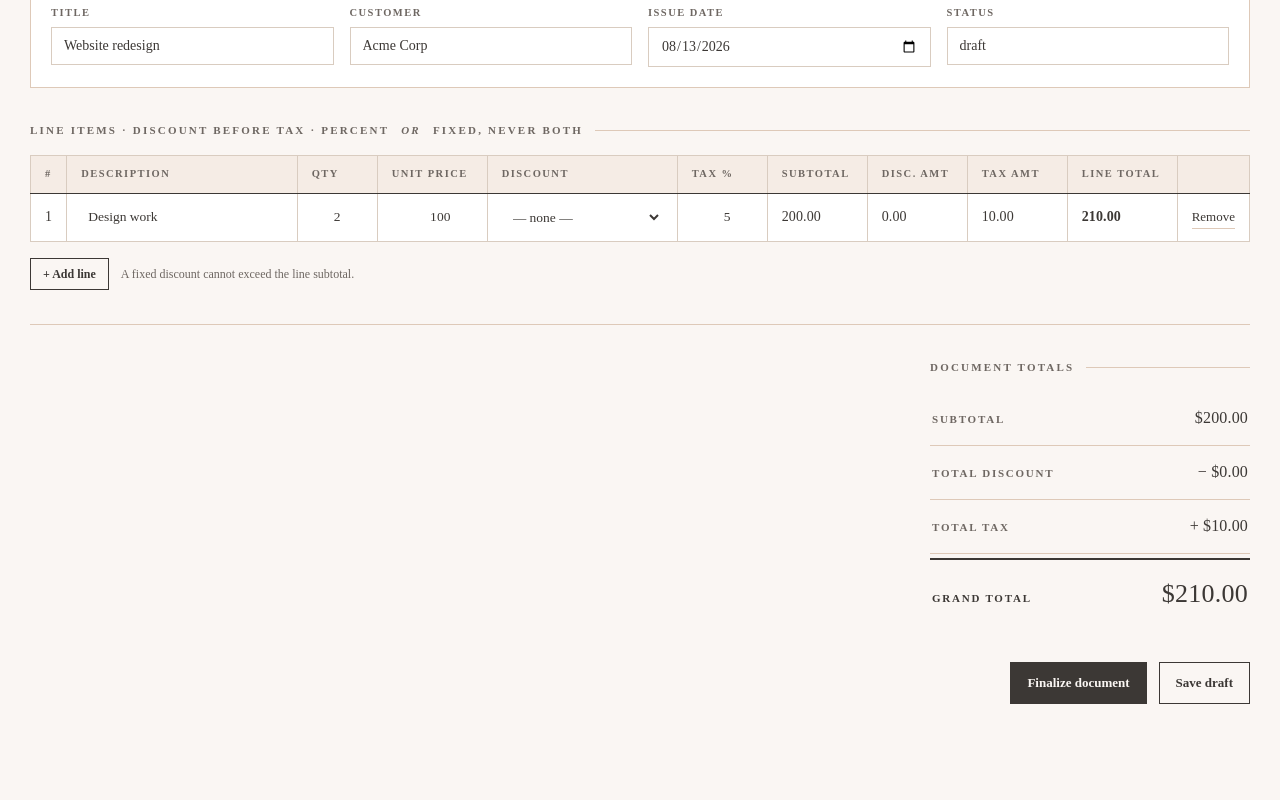
Scenario: DocumentEditor › surfaces a DOCUMENT_FINALIZED save error and notifies the parent to switch to read-only
The width and height of the screenshot is (1280, 800).
(page scrolled)
Expected: the field showing "Website redesign" is shown, [51,27,334,65]
Click the button "Save draft" at (1204, 683), box [1159,662,1250,704]
Wait 1500 ms
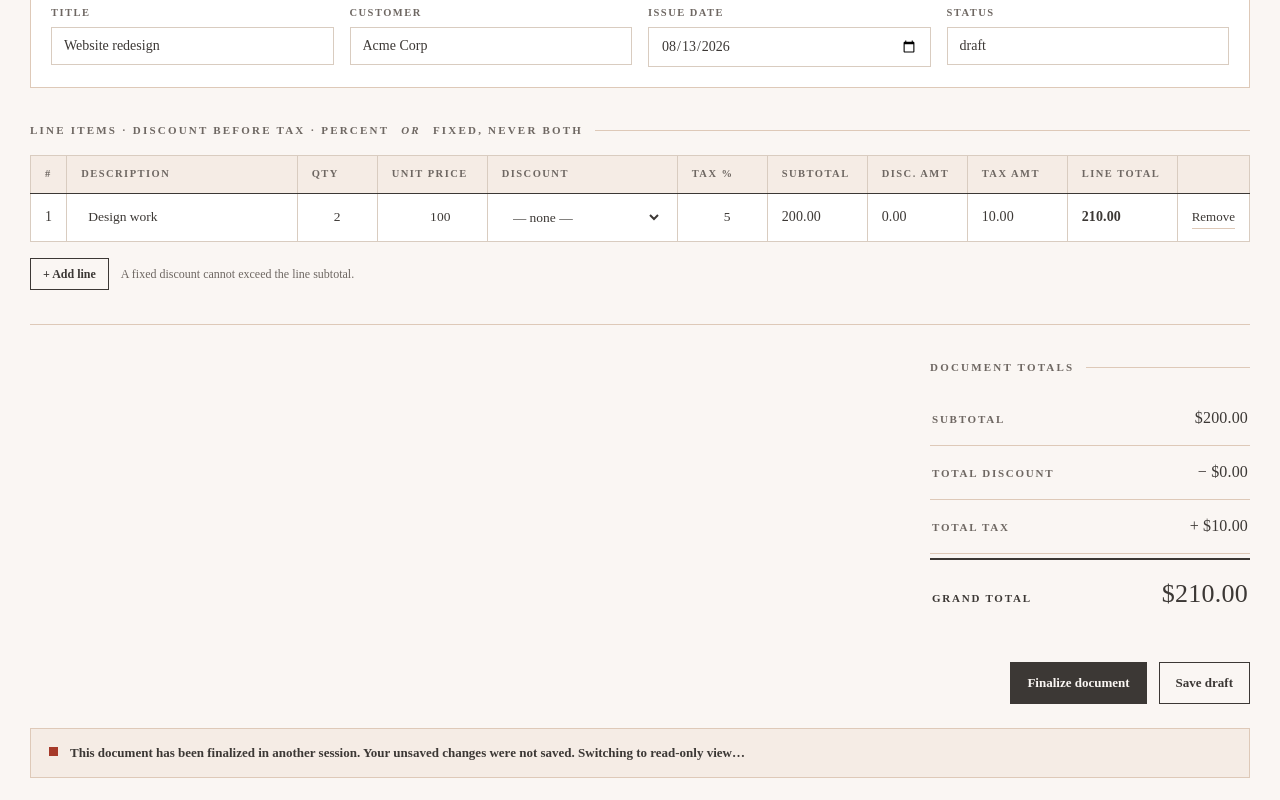
Now the text "finalized in another session" is shown, box [70,745,745,760]
